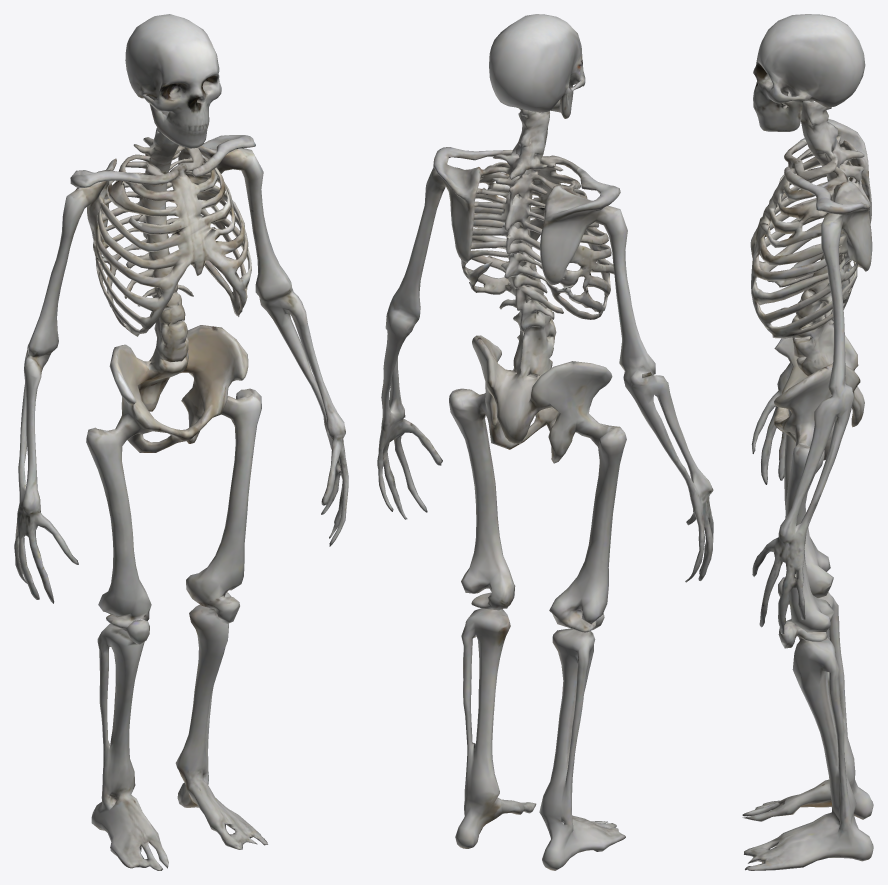
The model's file is main.glb.
The picture shows the model from 3 angles, left to right: view 1: azimuth 30°, elevation 25°; view 2: azimuth 150°, elevation 25°; view 3: azimuth 270°, elevation 25°; orthographic projection.
Parts seen in each view (by area): view 1: Mesh1_Mesh1.019; view 2: Mesh1_Mesh1.019; view 3: Mesh1_Mesh1.019.
Part boxes in pixels (box(x1,y1,x2,y2)): Mesh1_Mesh1.019: box(14, 14, 348, 870); Mesh1_Mesh1.019: box(377, 14, 713, 870); Mesh1_Mesh1.019: box(742, 14, 873, 870).
Bounding box in the file's own units: 0.8415 × 2 × 0.2901.
Materials: 1 (1 with a texture image).
